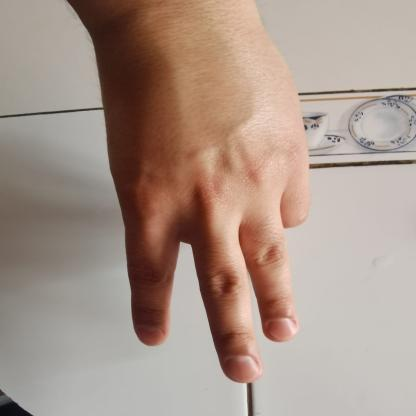M: (66, 13, 351, 395)
